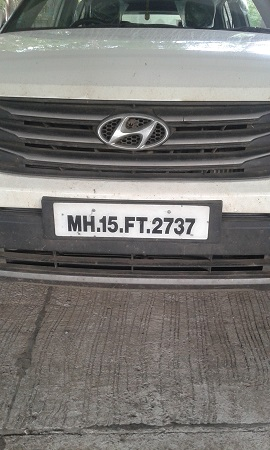licenseplate: (47, 199, 214, 242)
